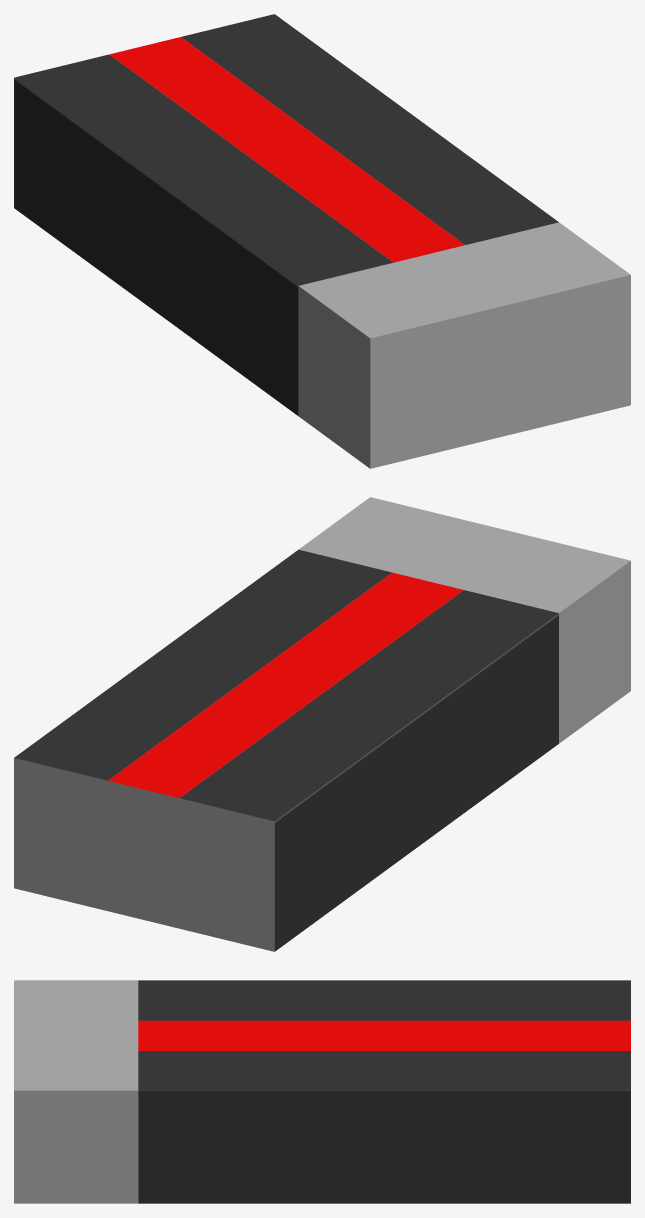
The model's file is enemy_eraser_01.glb.
The picture shows the model from 3 angles, top to bottom: view 1: azimuth 30°, elevation 25°; view 2: azimuth 150°, elevation 25°; view 3: azimuth 270°, elevation 25°; orthographic projection. The views are drawn at different scales.
Visible parts, largest first — view 1: obj1; view 2: obj1; view 3: obj1.
Boxes of the visible parts, left/top/right/bottom form: obj1: left=14, top=14, right=630, bottom=468; obj1: left=14, top=497, right=630, bottom=951; obj1: left=14, top=980, right=630, bottom=1203.
Size of the model in its own units: 2.3 by 1.1 by 5.45.
1 material, 1 textured.
